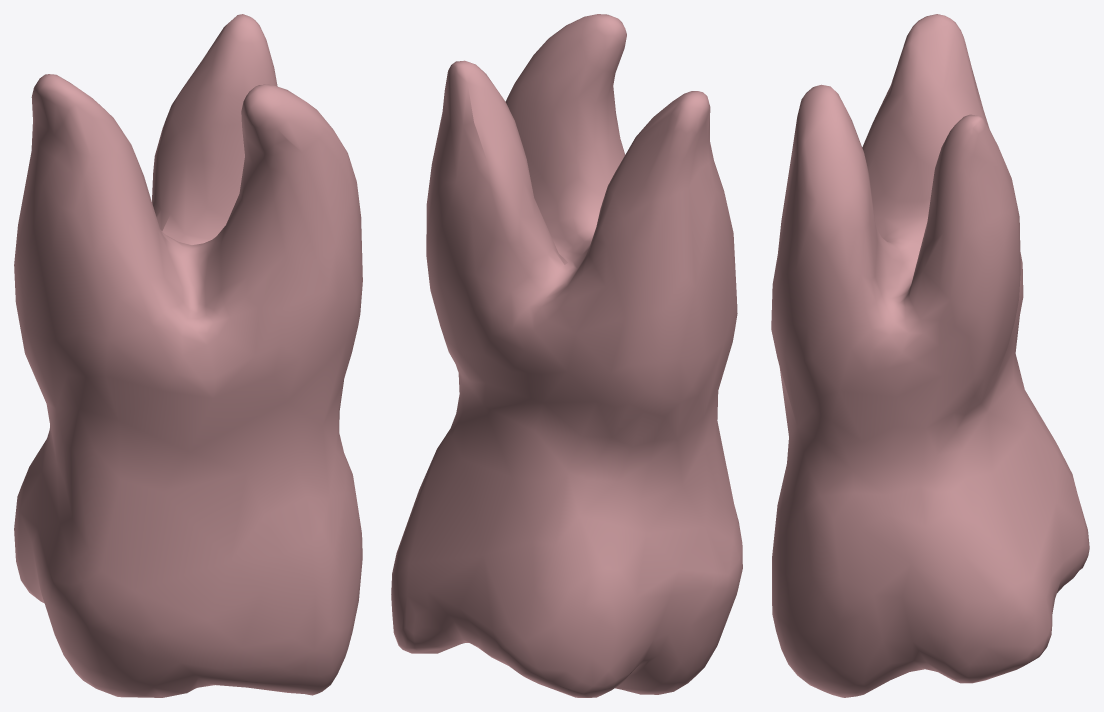
Rendered from fma55699_mm827.glb.
3 renders of one model, left to right at view 1: azimuth 30°, elevation 25°; view 2: azimuth 150°, elevation 25°; view 3: azimuth 270°, elevation 25°, orthographic. The views are drawn at different scales.
Parts seen in each view (by area): view 1: FMA55699_MM827; view 2: FMA55699_MM827; view 3: FMA55699_MM827.
Part boxes in pixels (x1,y1,x2,y2): FMA55699_MM827: (14,14,362,697); FMA55699_MM827: (391,14,742,697); FMA55699_MM827: (771,14,1089,697).
Size of the model in its own units: 0.0106 by 0.0213 by 0.0105.
